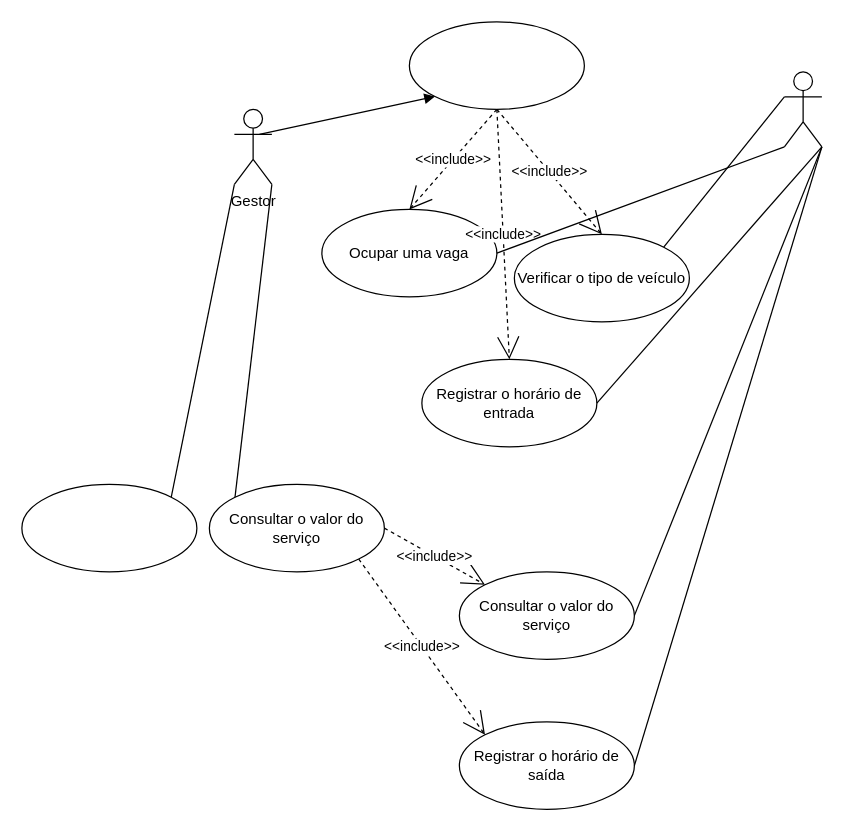
Image size: 851x831. Some labels were removed from this diagram. The centre of each missing label's shape, as x and y in pixels:
Cadastrar um veículo para uma ticket: point (496, 65)
Sistema: point (802, 109)
Visualizar as vagas e seus estados: point (109, 527)
